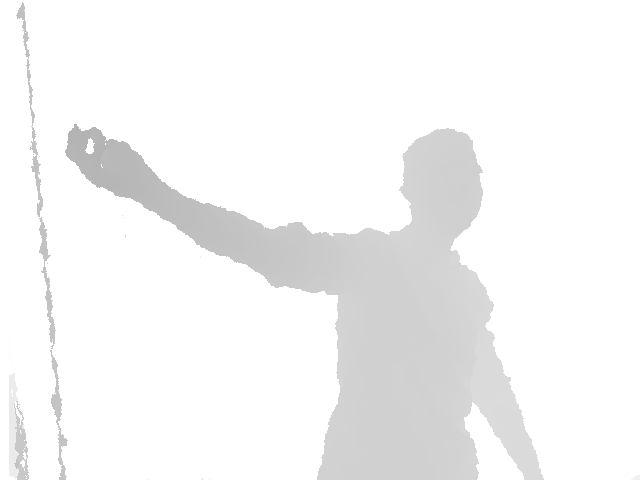hand: (64, 123, 154, 200)
head: (398, 128, 484, 237)
person: (63, 123, 545, 480)
